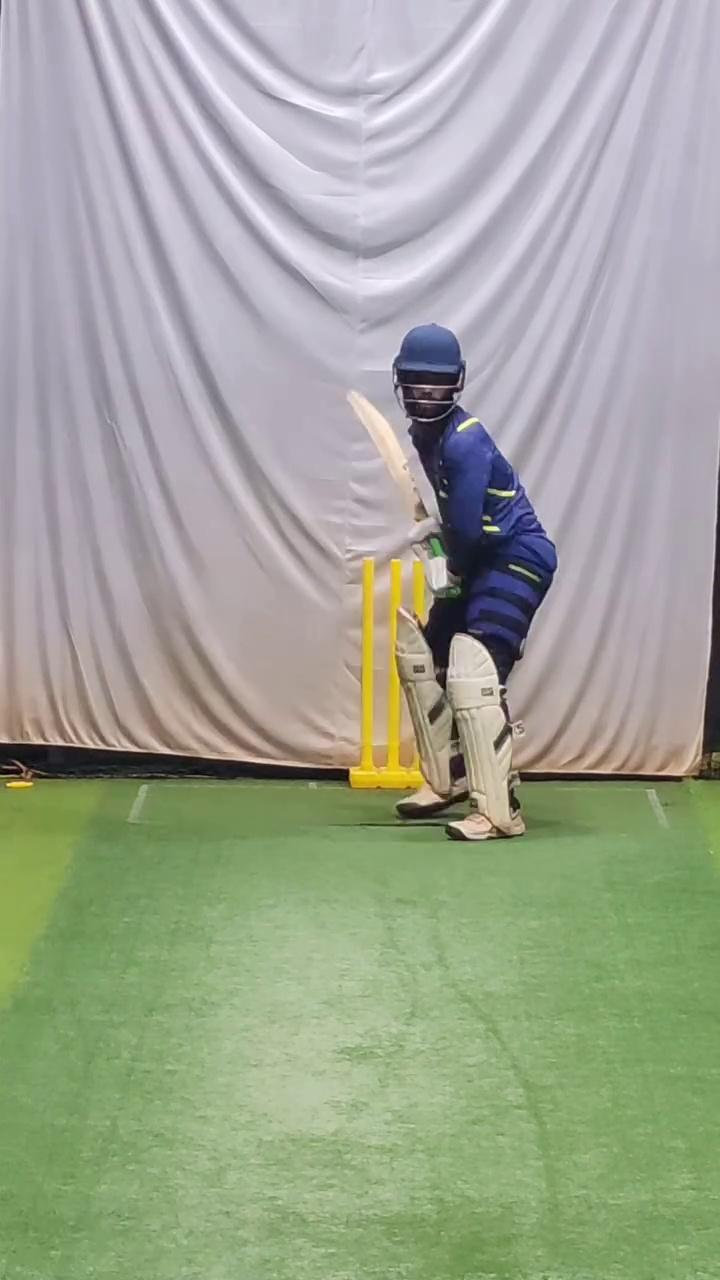bat: (341, 376, 444, 524)
